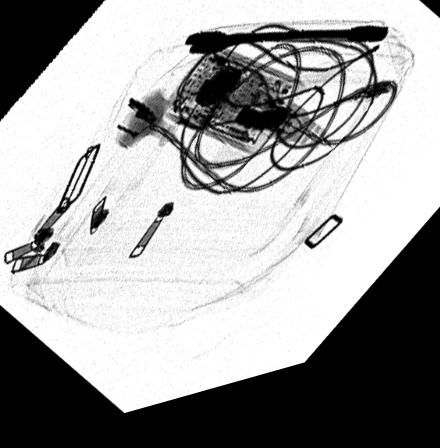Wrench: (179, 40, 388, 70)
